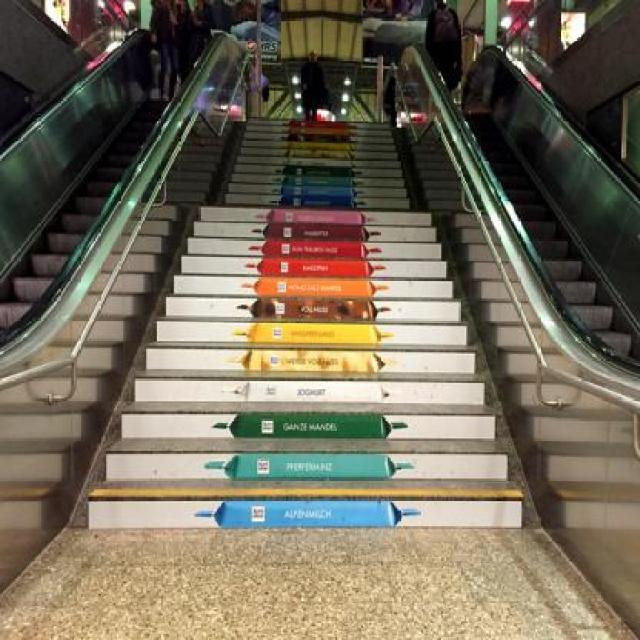stair: (134, 83, 437, 579)
